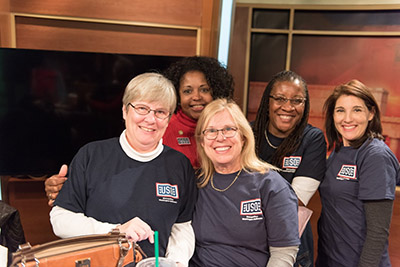Person: (42, 69, 194, 267), (178, 96, 303, 267), (318, 72, 397, 267), (249, 70, 326, 267), (163, 49, 238, 174)
